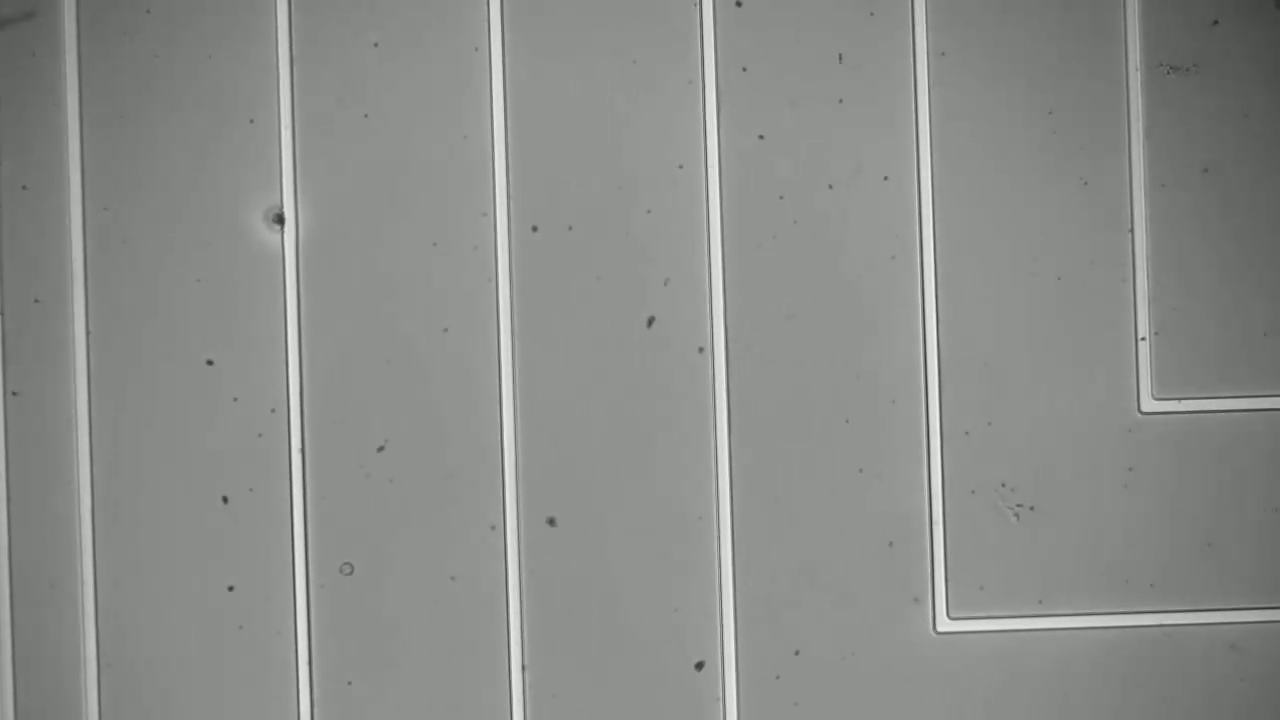stains_enbedded: (262, 207, 310, 245)
